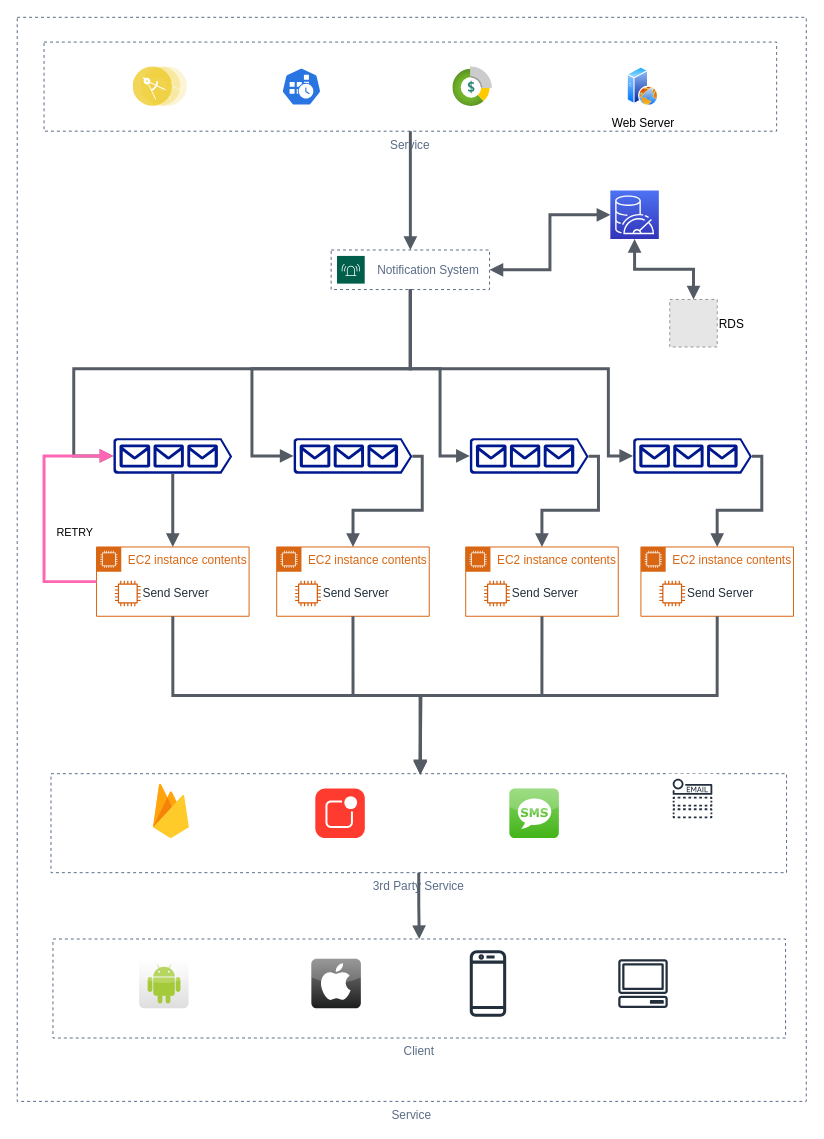
Image size: 824x1139. Some labels were removed from this diagram. Grey dashed boxes stand in for pictures. Here are the shapes that lost their labels. From the top down, the centre of each, then its label:
the point at 160,86: Micro Service
the point at 301,86: CronJob
the point at 472,86: Billing System
the point at 634,214: Redis Cache
the point at 170,810: FCM
the point at 339,813: APNS
the point at 533,813: SMS Service
the point at 692,798: Email notification
